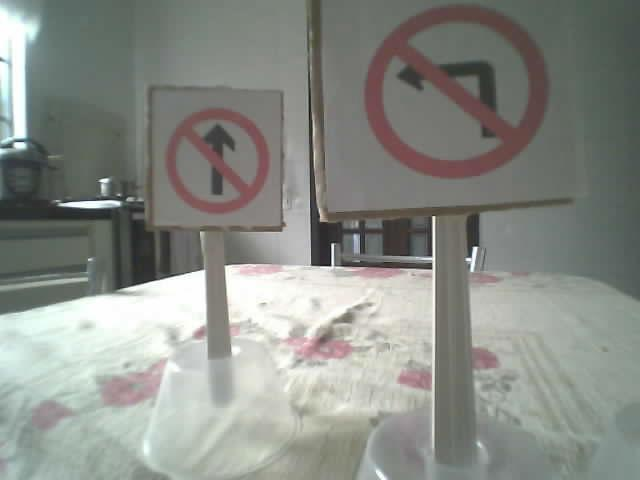R-3_sentido-proibido: (165, 107, 270, 213)
R-4a_proibido-esquerda: (362, 4, 545, 177)
